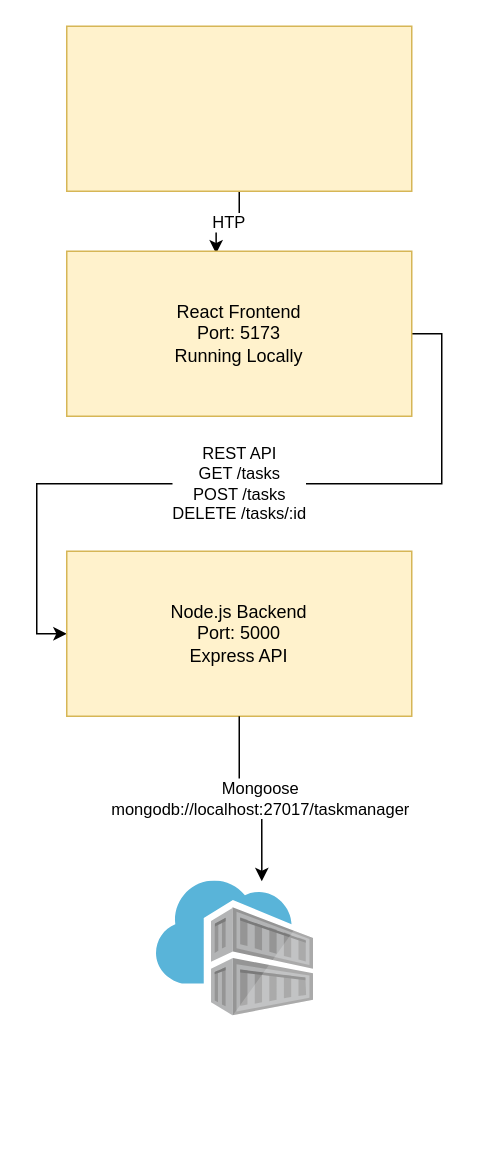
This 480x1161 diagram has some shape labels left out. Each missing label, with the box of its shape:
MONGO DB Docker Container MongoDB Port: 27017 Volume: mongo-data: (156, 880, 313, 1016)
User Browser http://localhost:5173: (65, 25, 412, 191)
